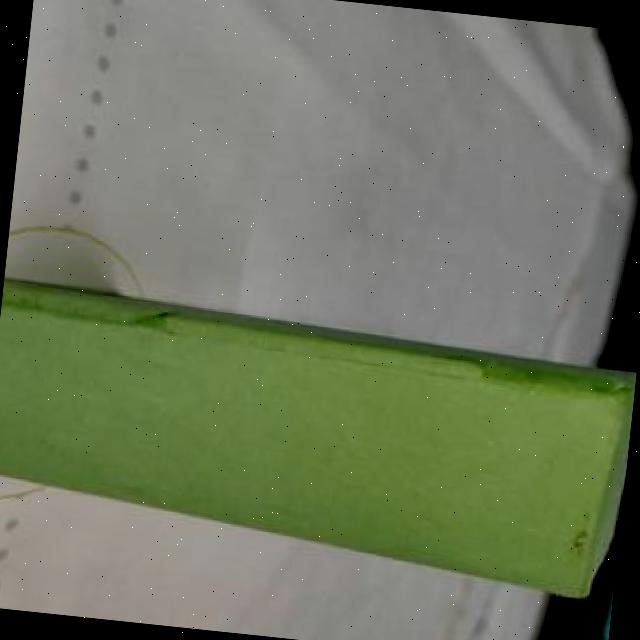greenbox: (0, 280, 639, 601)
